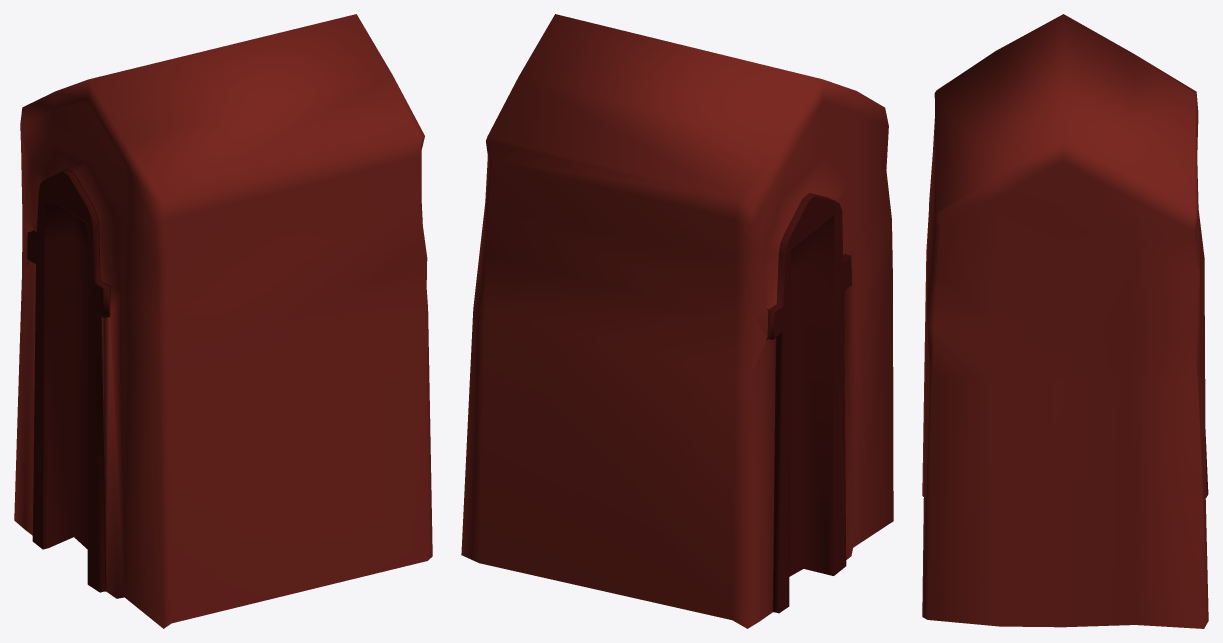
Rendered from BuildingPeakRoof.fbx.
3 renders of one model, left to right at view 1: azimuth 30°, elevation 25°; view 2: azimuth 150°, elevation 25°; view 3: azimuth 270°, elevation 25°, orthographic. The views are drawn at different scales.
Visible parts, largest first — view 1: BuildingPeakRoof; view 2: BuildingPeakRoof; view 3: BuildingPeakRoof.
Part boxes in pixels (x1,y1,x2,y2): BuildingPeakRoof: [14, 14, 432, 628]; BuildingPeakRoof: [461, 14, 893, 628]; BuildingPeakRoof: [922, 14, 1208, 628].
Bounding box in the file's own units: 4.95 × 4.28 × 7.97.
